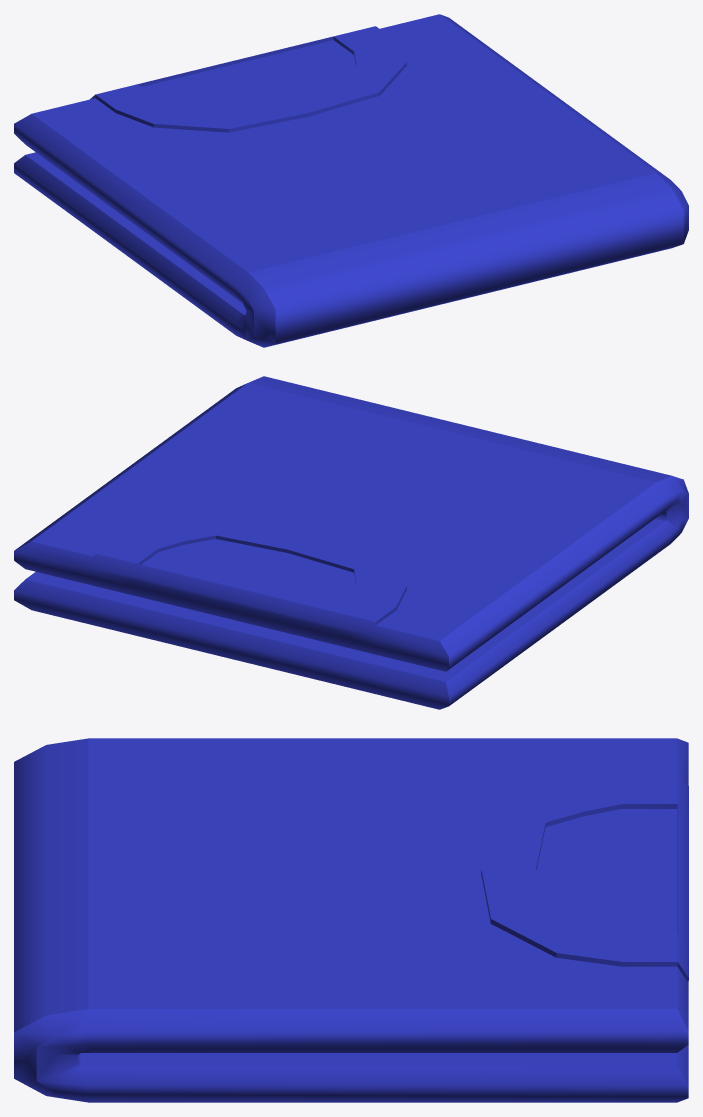
Rendered from MDL_CLBL_folded.fbx.
The picture shows the model from 3 angles, top to bottom: view 1: azimuth 30°, elevation 25°; view 2: azimuth 150°, elevation 25°; view 3: azimuth 270°, elevation 25°; orthographic projection. The views are drawn at different scales.
Visible parts, largest first — view 1: MDL_CL_fold.002; view 2: MDL_CL_fold.002; view 3: MDL_CL_fold.002.
Part boxes in pixels (box(x1,y1,x2,y2)): MDL_CL_fold.002: box(14, 14, 688, 347); MDL_CL_fold.002: box(14, 376, 688, 709); MDL_CL_fold.002: box(14, 738, 688, 1102).
Size of the model in its own units: 78.18 by 12.43 by 77.31.
